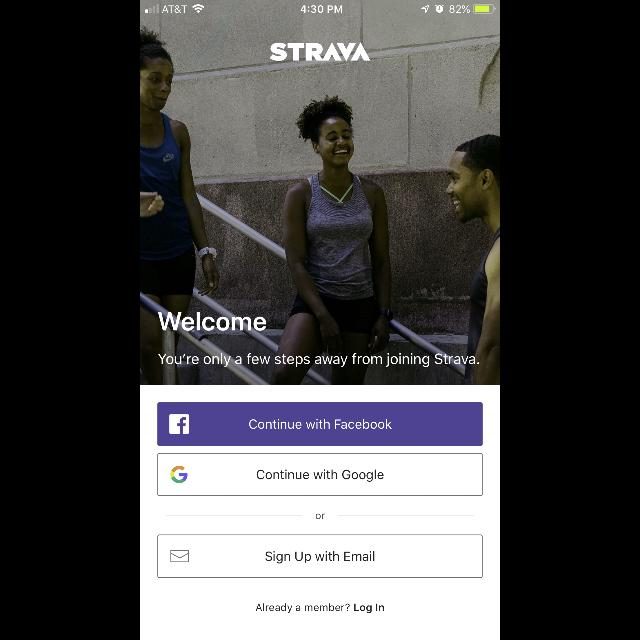image: (140, 1, 500, 385), (270, 42, 370, 62)
text: (158, 353, 480, 367), (158, 313, 266, 332), (256, 603, 384, 613), (316, 513, 326, 519)
textbutton: (158, 402, 482, 446), (158, 534, 482, 578), (158, 454, 482, 496)
uppertaskbar: (140, 0, 500, 14)
